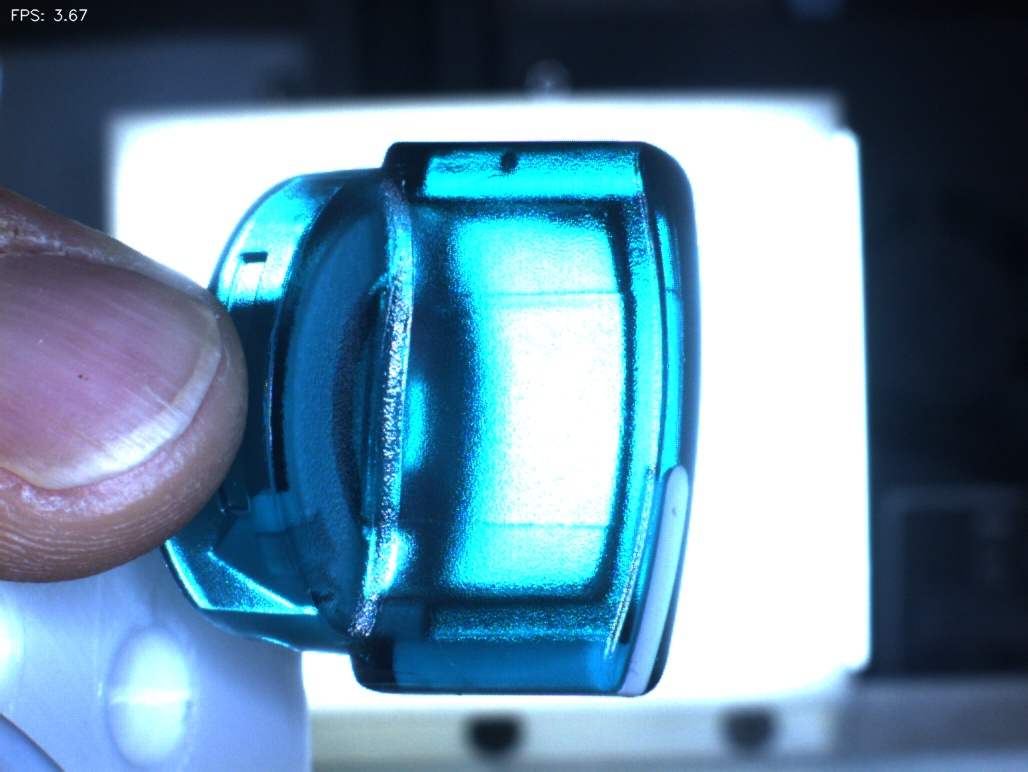Bulle: (470, 117, 553, 204)
